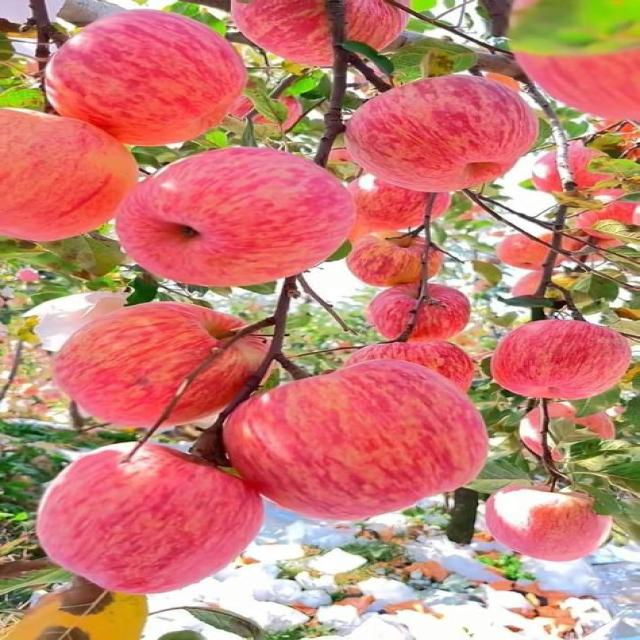Tao: (236, 368, 478, 519), (45, 438, 261, 594), (119, 150, 338, 287), (20, 12, 237, 142), (51, 306, 273, 426), (350, 79, 525, 194), (0, 105, 132, 248), (503, 12, 640, 112), (489, 316, 628, 399), (230, 2, 403, 66), (488, 483, 621, 559), (347, 332, 472, 393), (526, 399, 638, 466), (357, 285, 482, 343), (327, 174, 438, 228), (342, 233, 446, 285), (536, 145, 626, 198), (518, 268, 606, 312), (565, 199, 640, 240), (495, 232, 596, 262)
